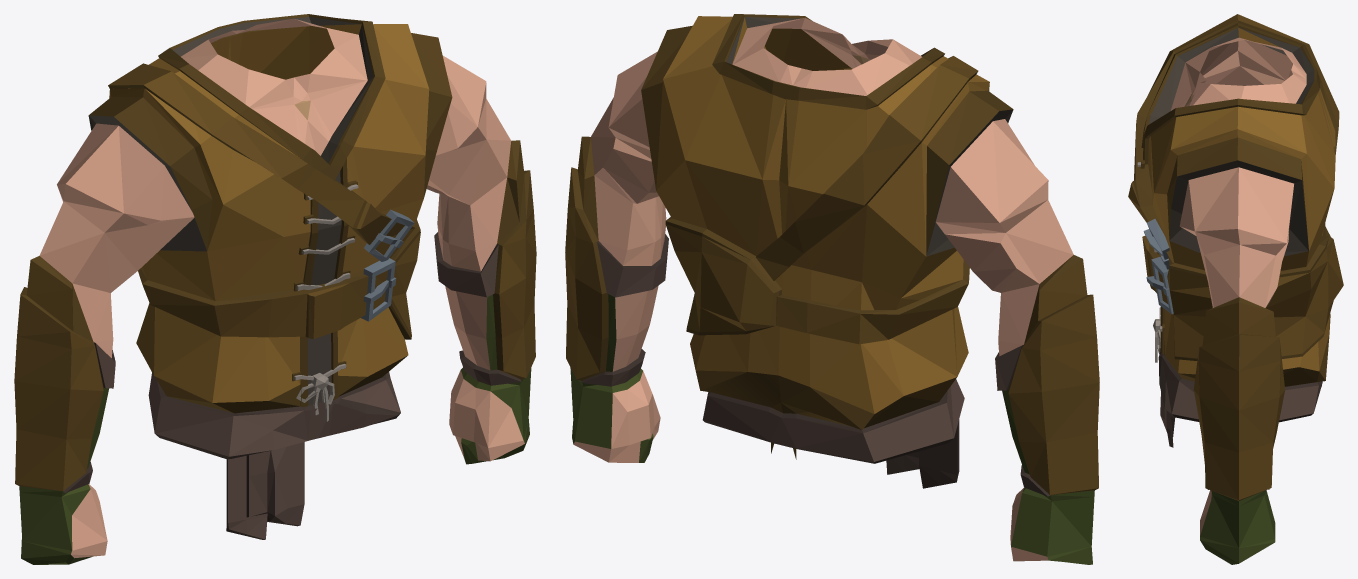
File: ArcherChest.dae
The picture shows the model from 3 angles, left to right: view 1: azimuth 30°, elevation 25°; view 2: azimuth 150°, elevation 25°; view 3: azimuth 270°, elevation 25°; orthographic projection. The views are drawn at different scales.
Visible parts, largest first — view 1: Chest; view 2: Chest; view 3: Chest.
Boxes of the visible parts, box(x1,y1,x2,y2) form: Chest: box(14, 14, 536, 564); Chest: box(565, 14, 1099, 564); Chest: box(1128, 14, 1343, 564).
Bounding box in the file's own units: 4.95 × 2.04 × 4.21.
